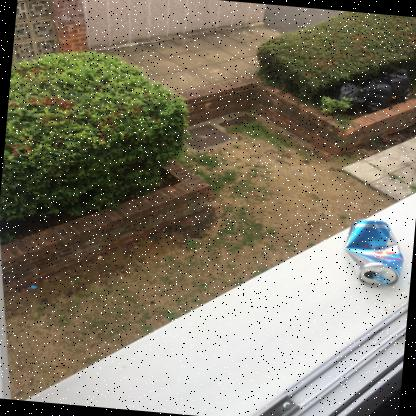Drink can: (343, 219, 404, 288)
Garbage bag: (335, 81, 369, 116), (360, 78, 393, 114), (378, 69, 410, 104)
Pop tab: (373, 273, 389, 286)
